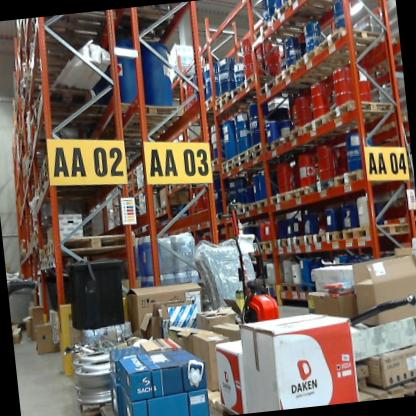pallet: (82, 388, 233, 416), (32, 76, 107, 131), (113, 93, 182, 137), (54, 227, 131, 262), (329, 94, 393, 134), (320, 24, 380, 63), (339, 218, 412, 243), (267, 0, 313, 34), (358, 374, 416, 400), (253, 20, 301, 48), (294, 43, 332, 75), (275, 63, 314, 92), (74, 392, 102, 416), (302, 111, 331, 134), (313, 228, 341, 250), (237, 72, 269, 91), (294, 231, 314, 252), (333, 172, 365, 184), (287, 186, 311, 202), (279, 127, 301, 144), (310, 179, 334, 194), (279, 277, 297, 295), (265, 134, 280, 155), (270, 190, 288, 207), (306, 0, 340, 9), (276, 237, 295, 252), (296, 280, 316, 294), (257, 237, 276, 251), (226, 82, 240, 100), (259, 79, 276, 92), (215, 98, 232, 110), (245, 142, 264, 152), (213, 90, 230, 101), (254, 197, 268, 208), (221, 163, 235, 174), (234, 157, 249, 167), (243, 203, 256, 213), (234, 152, 248, 161), (220, 157, 234, 166), (249, 151, 263, 159)
